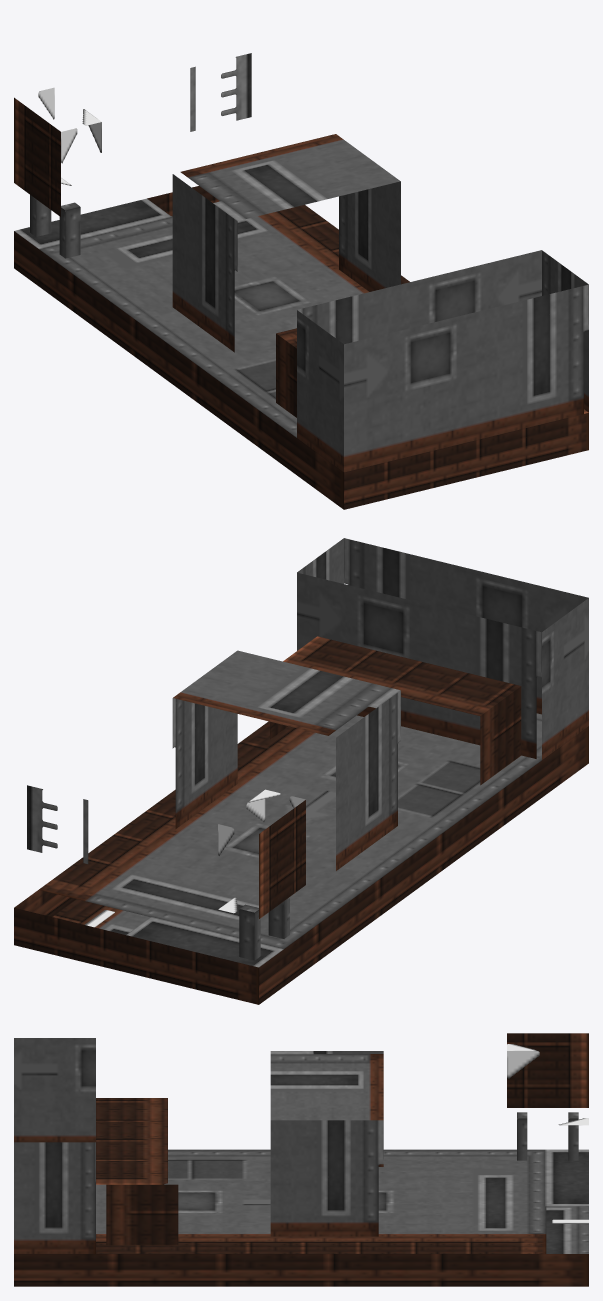
The model's file is industrial_electrolyzer.obj.
3 renders of one model, top to bottom at view 1: azimuth 30°, elevation 25°; view 2: azimuth 150°, elevation 25°; view 3: azimuth 270°, elevation 25°, orthographic. The views are drawn at different scales.
Visible parts, largest first — view 1: base, f, z, redstone, pipeline, s, redstone2, redstone3; view 2: base, f, z, s, redstone, pipeline, redstone3, redstone2; view 3: base, z, f, s, redstone, redstone2, redstone3.
Boxes of the visible parts, box(x1,y1,x2,y2) form: base: box(14, 186, 588, 509); f: box(297, 250, 588, 472); z: box(172, 134, 400, 352); redstone: box(14, 87, 101, 216); pipeline: box(190, 53, 251, 131); s: box(276, 328, 296, 417); redstone2: box(59, 202, 80, 258); redstone3: box(30, 195, 51, 236); base: box(14, 713, 588, 1004); f: box(297, 538, 588, 759); z: box(172, 650, 400, 870); s: box(270, 636, 521, 785); redstone: box(218, 789, 305, 918); pipeline: box(27, 785, 88, 863); redstone3: box(239, 904, 260, 960); redstone2: box(268, 897, 289, 938); base: box(14, 1149, 588, 1286); z: box(270, 1051, 383, 1236); f: box(14, 1038, 95, 1253); s: box(96, 1098, 178, 1245); redstone: box(507, 1033, 588, 1125); redstone2: box(517, 1112, 527, 1160); redstone3: box(568, 1112, 578, 1160).
Size of the model in its own units: 3 by 2.69 by 7.
